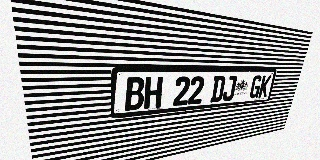2: (173, 76, 191, 106), (188, 76, 205, 105)
B: (125, 77, 145, 111)
D: (210, 76, 226, 103)
G: (249, 75, 263, 99)
H: (144, 77, 163, 109)
J: (222, 76, 237, 101)
K: (258, 75, 272, 98)
